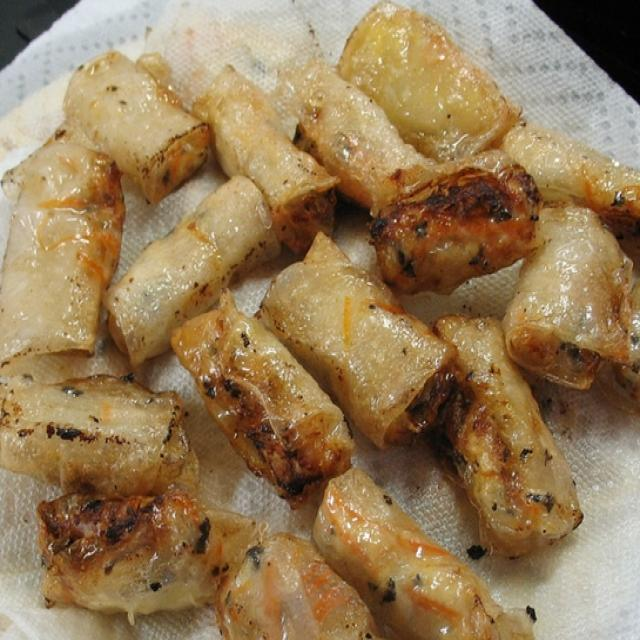炸货点心: (15, 24, 632, 612)
